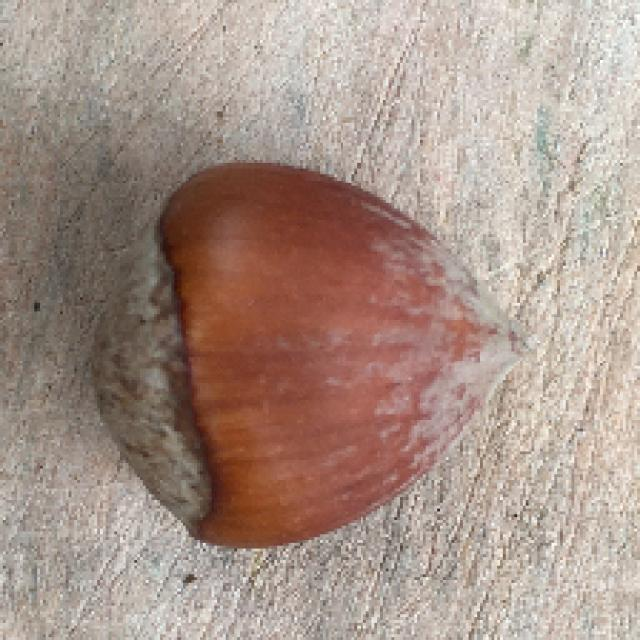qualityHazelnut: (80, 155, 534, 552)
